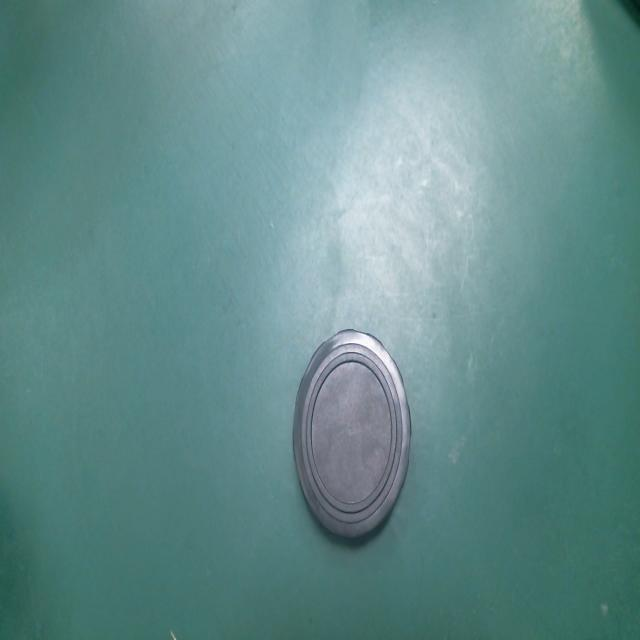cover: (284, 314, 423, 567)
